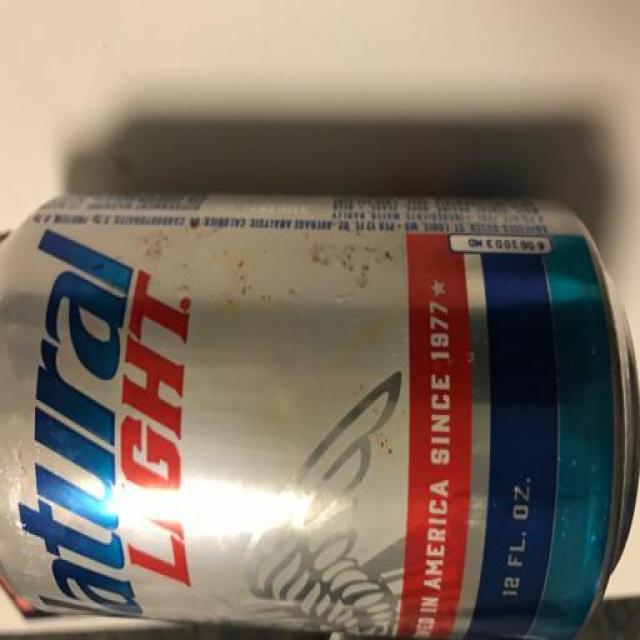metel: (5, 202, 640, 640)
